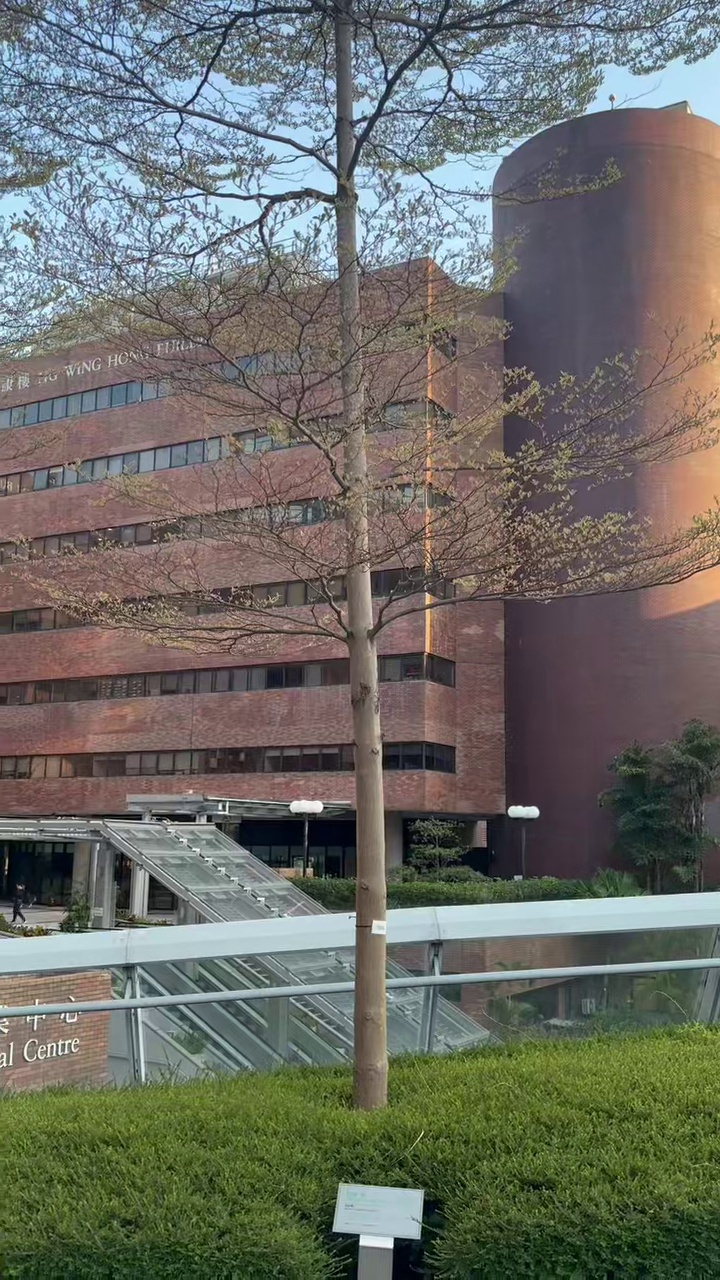Terminalia mantaly: (0, 0, 719, 1108)
